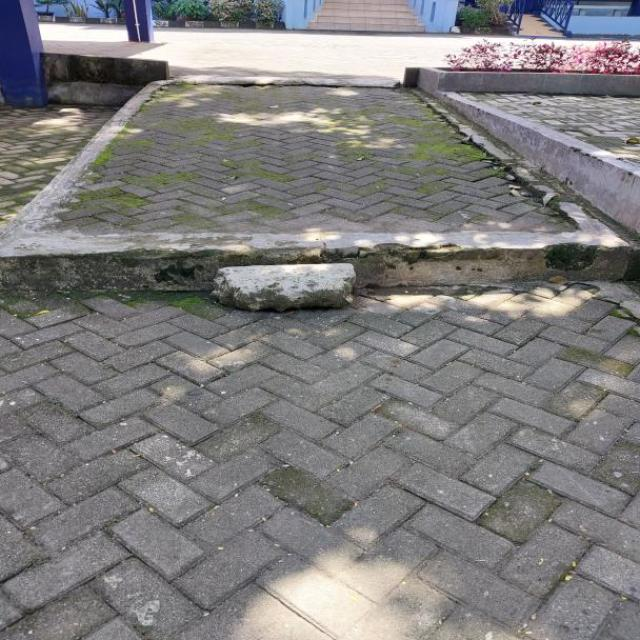stones ahead at: (208, 264, 361, 305)
